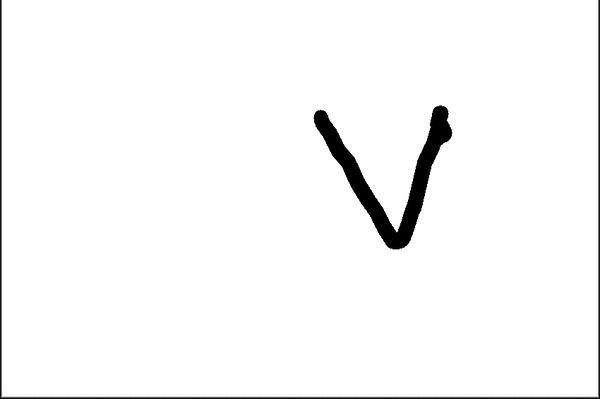V: (309, 89, 455, 255)
